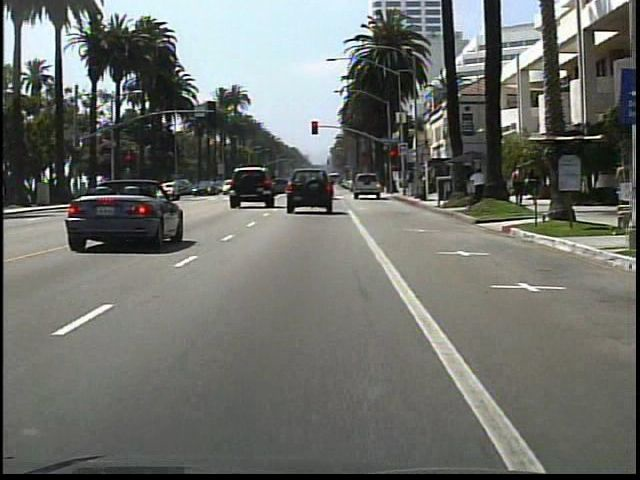person: (468, 165, 490, 206), (509, 161, 526, 208)
